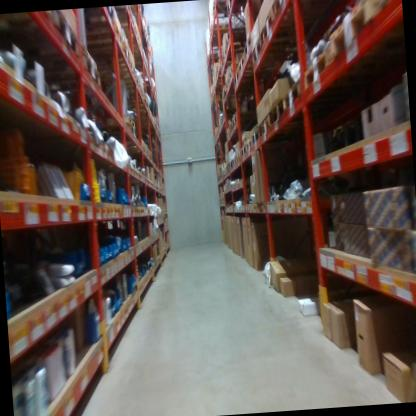pallet: (0, 41, 108, 105), (78, 21, 138, 129), (328, 0, 397, 76), (0, 9, 86, 65), (258, 4, 342, 46), (96, 58, 150, 114), (250, 37, 319, 71), (234, 60, 298, 92), (303, 43, 332, 93), (282, 75, 308, 123), (238, 51, 296, 72), (91, 124, 140, 141), (223, 42, 257, 66), (271, 0, 322, 15), (223, 27, 255, 50), (227, 0, 267, 16), (373, 0, 403, 21), (108, 6, 135, 28), (206, 18, 231, 39), (230, 110, 257, 129), (117, 139, 149, 155), (269, 97, 286, 127), (258, 108, 272, 143), (121, 149, 155, 163), (223, 125, 247, 143), (229, 119, 256, 131), (241, 36, 254, 57), (251, 126, 262, 149), (212, 2, 226, 17), (245, 130, 253, 154), (225, 72, 234, 91), (228, 63, 235, 84), (240, 144, 247, 158), (235, 152, 241, 164), (228, 160, 235, 170), (233, 156, 237, 167)
